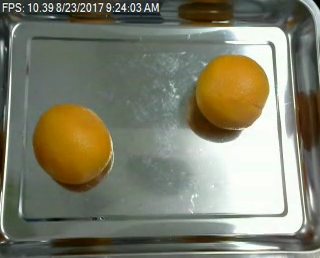Orange: (33, 104, 113, 186), (195, 53, 268, 131)
